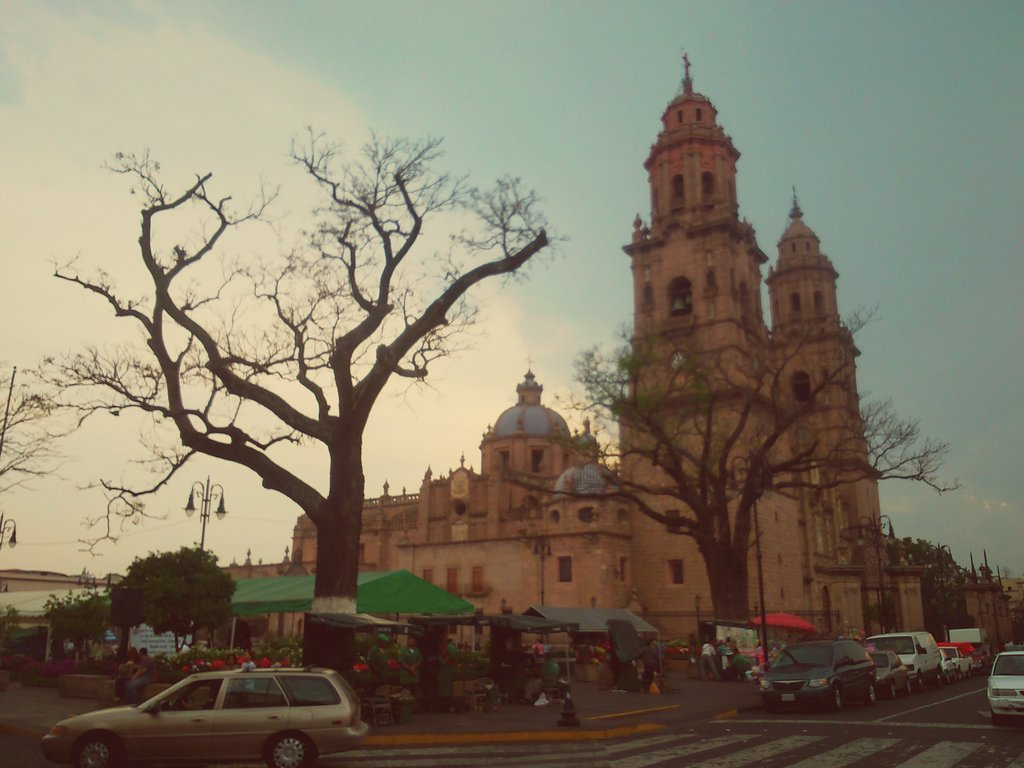cars: (37, 662, 366, 767), (756, 631, 975, 711), (988, 646, 1023, 721)
